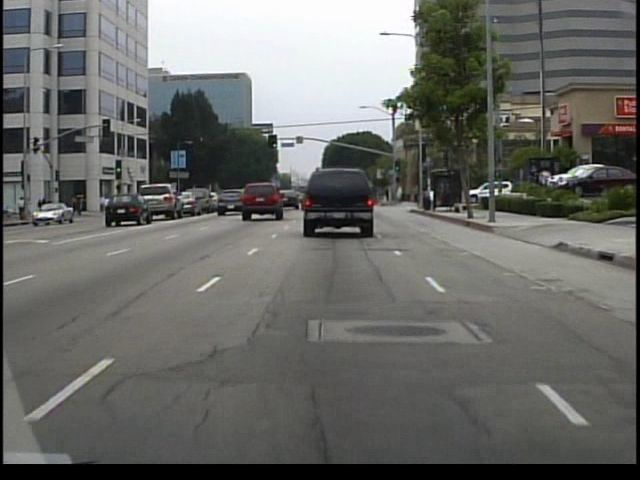person: (16, 191, 32, 225), (395, 184, 407, 207)
